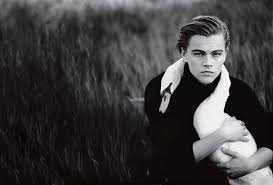noMask: (173, 12, 234, 87)
